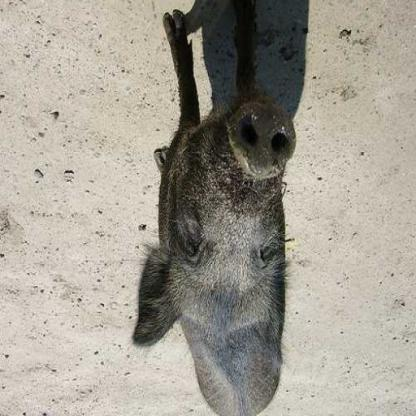boar: (112, 1, 359, 416)
